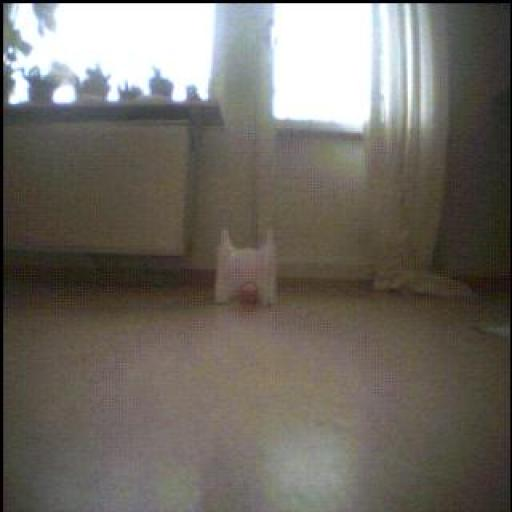Basket: (240, 283, 261, 307)
